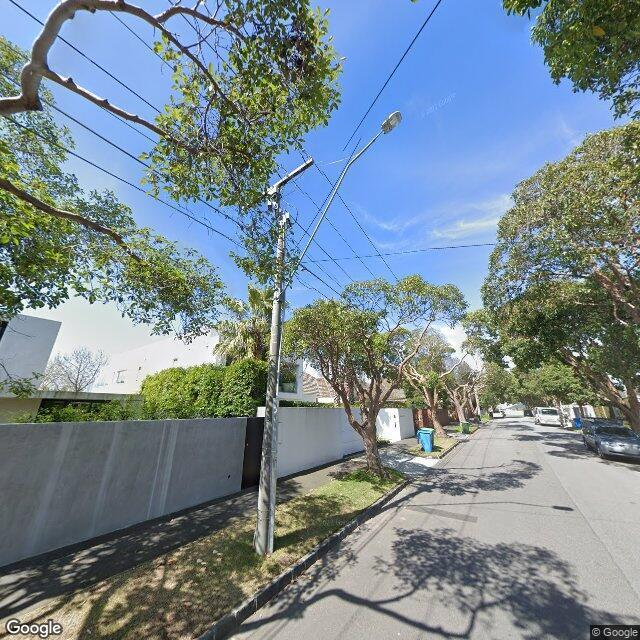concrete-pole: (255, 188, 286, 555)
crossarm: (242, 158, 314, 210)
streetlight: (278, 111, 402, 301)
